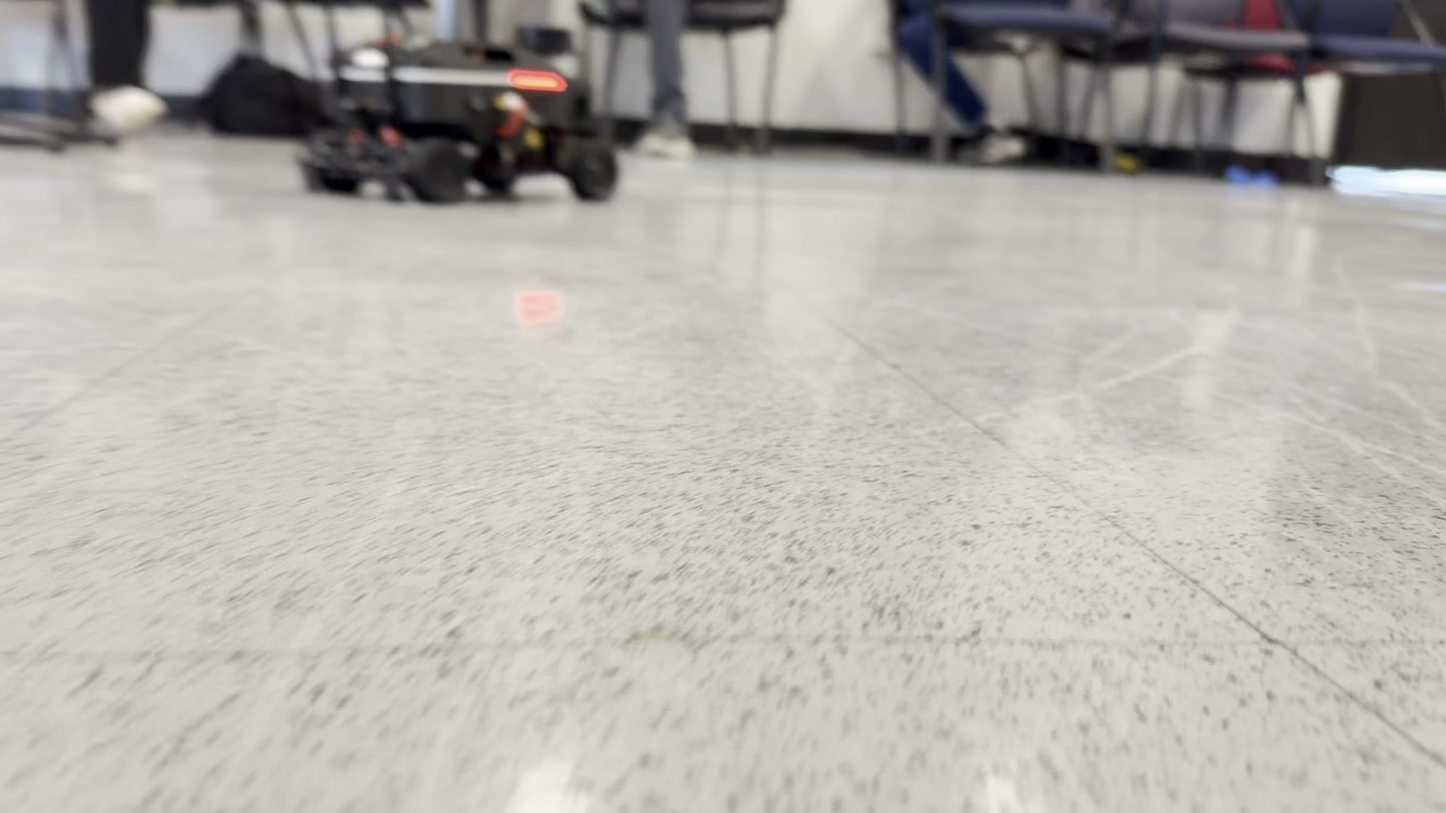racecar: (297, 6, 619, 204)
